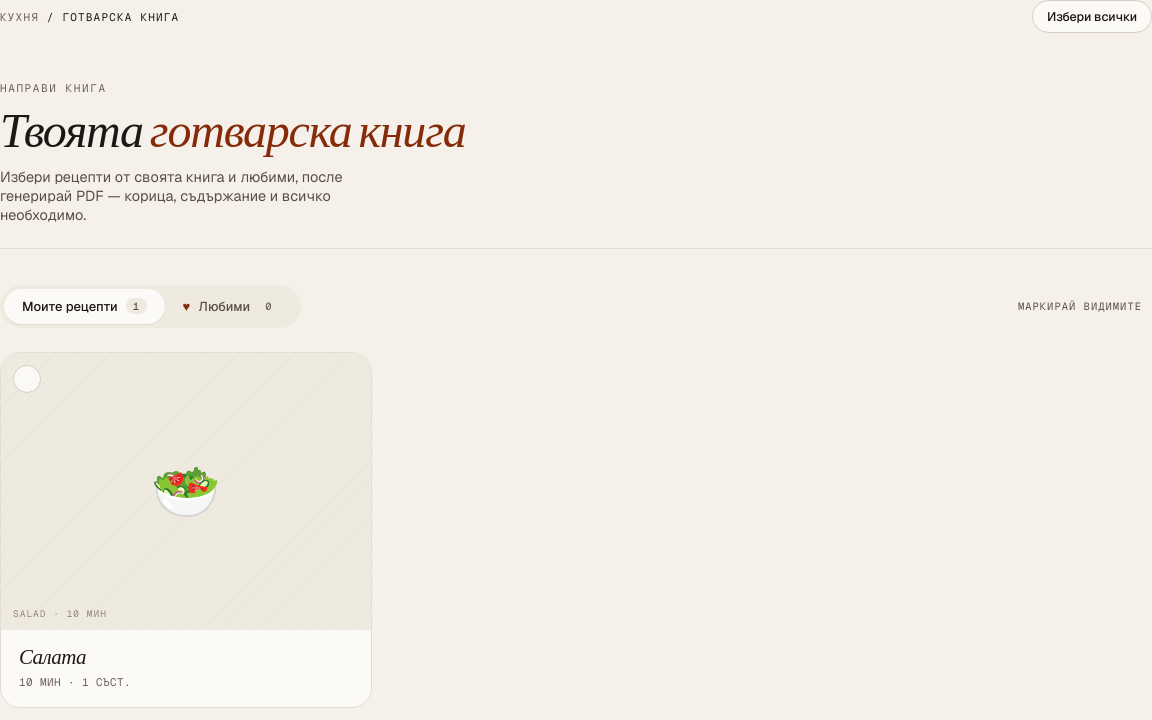
Test case: CookbookScreen – selection › shows the action bar when at least one card is selected
The image size is (1152, 720).
What coordinates should you click on to do the following:
click the element showing "🥗 salad · 10 мин Салата 10 мин · 1 съст."
I would click on:
 (186, 530)
Its box is [0,352,372,708].
(page scrolled)
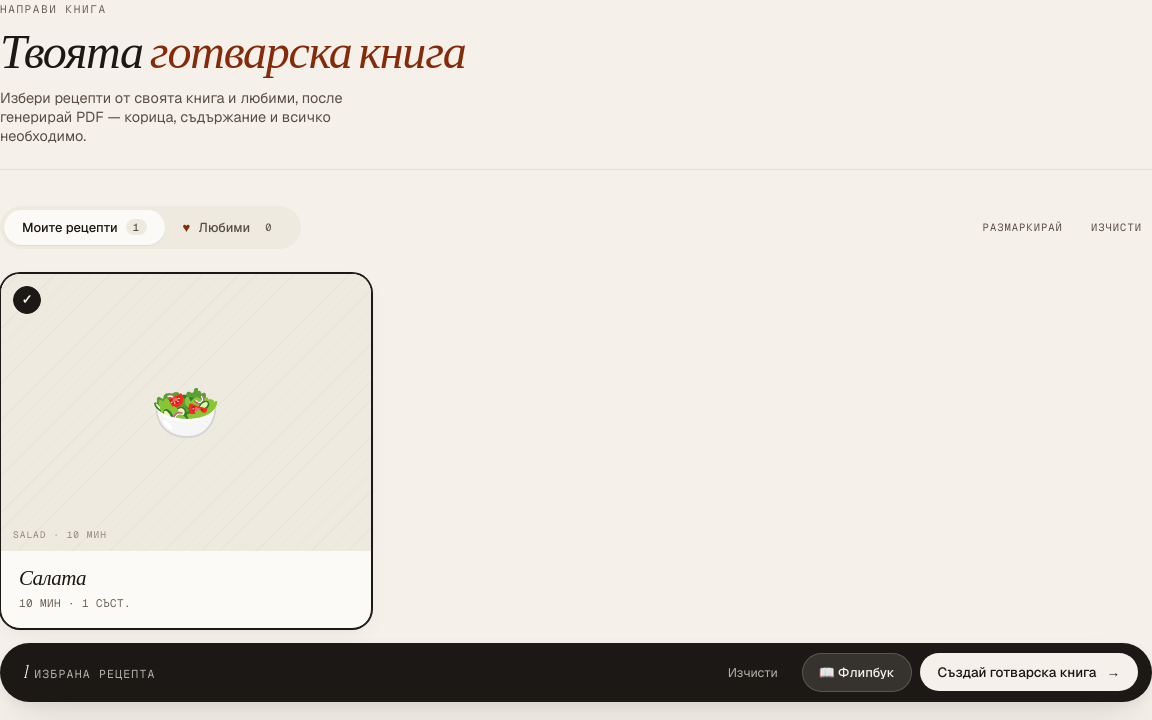
Expected: the button "Създай готварска книга →" is shown, [920,653,1138,691]
